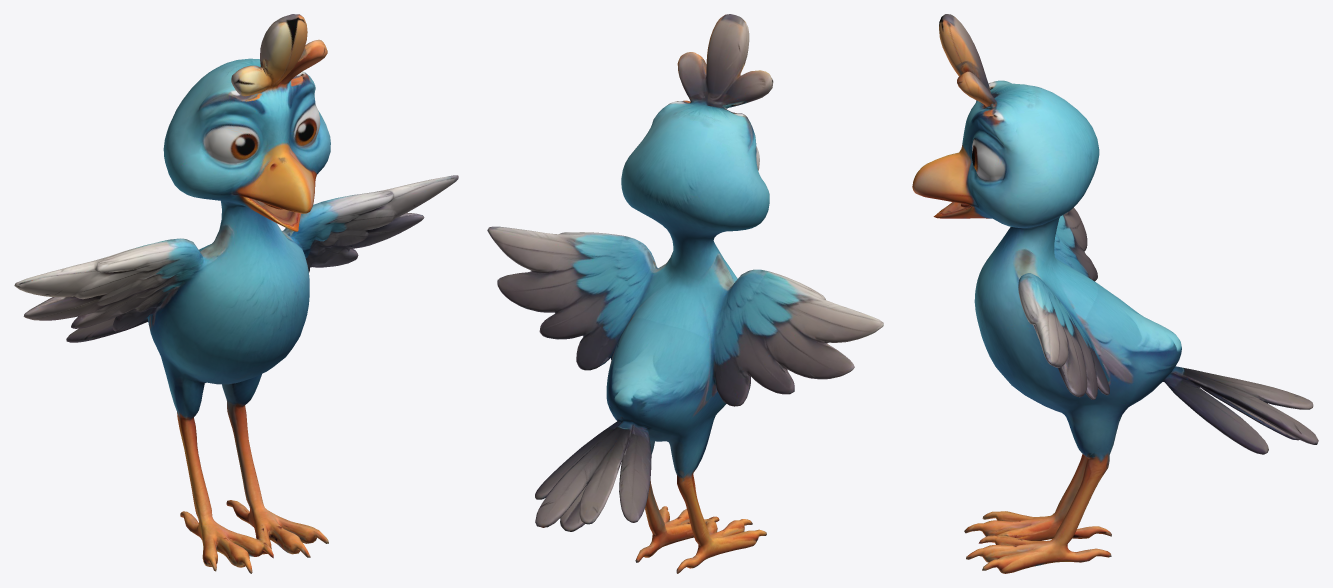
The model's file is bird.glb.
The picture shows the model from 3 angles, left to right: view 1: azimuth 30°, elevation 25°; view 2: azimuth 150°, elevation 25°; view 3: azimuth 270°, elevation 25°; orthographic projection. The views are drawn at different scales.
Visible parts, largest first — view 1: Mesh1.0; view 2: Mesh1.0; view 3: Mesh1.0.
Part boxes in pixels (box(x1,y1,x2,y2)): Mesh1.0: box(14, 14, 458, 573); Mesh1.0: box(487, 14, 883, 573); Mesh1.0: box(912, 14, 1318, 573).
Size of the model in its own units: 1.66 by 2 by 1.38.
Materials: 1 (1 with a texture image).
